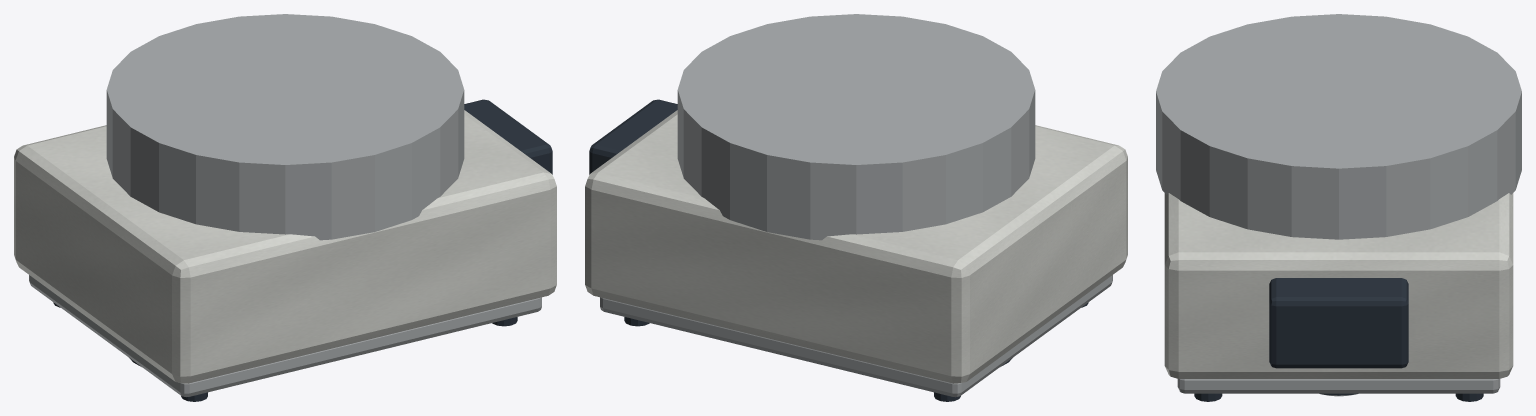
Rendered from rover_uv_spectrometer.glb.
3 views of the same model, side by side, from view 1: azimuth 30°, elevation 25°; view 2: azimuth 150°, elevation 25°; view 3: azimuth 270°, elevation 25° (orthographic). The views are drawn at different scales.
Parts seen in each view (by area): view 1: UV_InstrumentBody, Turret_Adapter, Optical_Faceplate, Wiring_Connector; view 2: UV_InstrumentBody, Turret_Adapter, Optical_Faceplate, Wiring_Connector; view 3: Turret_Adapter, UV_InstrumentBody, Wiring_Connector, Optical_Faceplate.
Boxes of the visible parts, box(x1,y1,x2,y2) form: UV_InstrumentBody: box(14, 110, 556, 383); Turret_Adapter: box(106, 14, 464, 240); Optical_Faceplate: box(29, 275, 541, 396); Wiring_Connector: box(464, 99, 552, 174); UV_InstrumentBody: box(585, 110, 1127, 383); Turret_Adapter: box(677, 14, 1035, 240); Optical_Faceplate: box(600, 275, 1112, 396); Wiring_Connector: box(589, 99, 677, 174); Turret_Adapter: box(1156, 14, 1521, 239); UV_InstrumentBody: box(1164, 193, 1513, 378); Wiring_Connector: box(1269, 278, 1408, 368); Optical_Faceplate: box(1177, 379, 1500, 393).
Size of the model in its own units: 0.29 by 0.158 by 0.21.
Materials: 3 (1 with a texture image).
